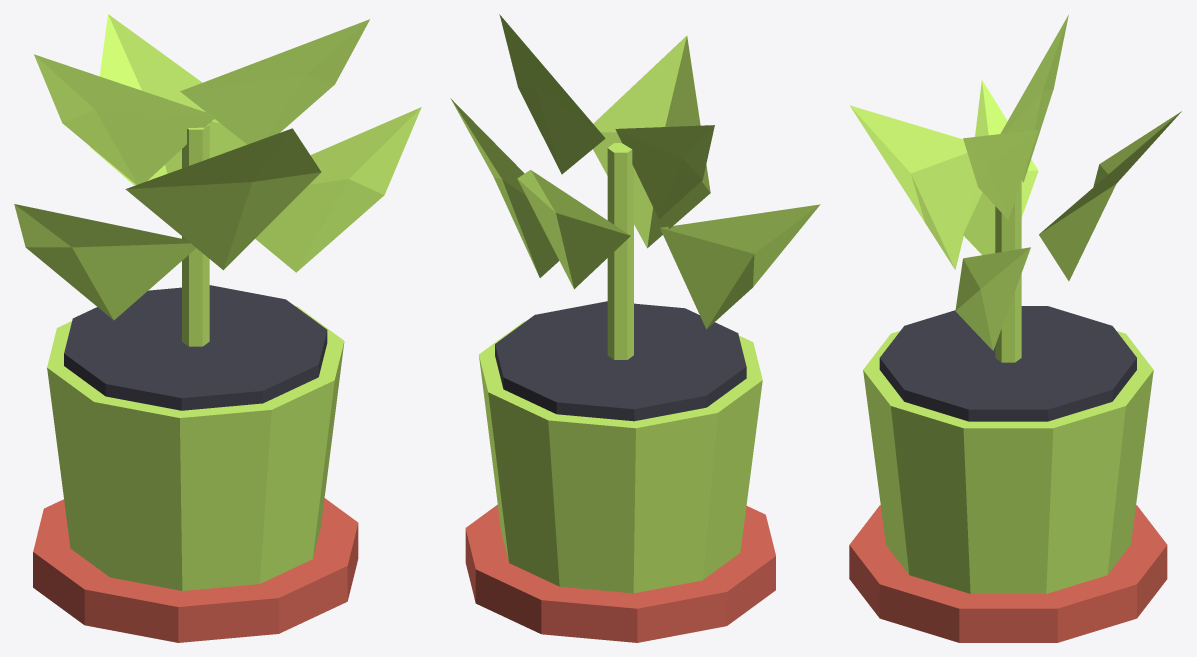
File: houseplant.obj
The picture shows the model from 3 angles, left to right: view 1: azimuth 30°, elevation 25°; view 2: azimuth 150°, elevation 25°; view 3: azimuth 270°, elevation 25°; orthographic projection. The views are drawn at different scales.
Visible parts, largest first — view 1: tapered-planter, soft-soil, cozy-pot-saucer, leaf-1, leaf-5, leaf-3, leaf-4, leaf-6, leaf-2, main-stem; view 2: tapered-planter, soft-soil, cozy-pot-saucer, leaf-3, leaf-1, leaf-2, leaf-5, leaf-6, main-stem, leaf-4; view 3: tapered-planter, soft-soil, cozy-pot-saucer, leaf-1, leaf-2, leaf-4, leaf-6, leaf-3, leaf-5, main-stem.
Boxes of the visible parts, box(x1,y1,x2,y2) form: tapered-planter: box(47, 306, 344, 590); soft-soil: box(64, 285, 327, 410); cozy-pot-saucer: box(33, 498, 358, 642); leaf-1: box(125, 128, 321, 270); leaf-5: box(34, 54, 216, 184); leaf-3: box(14, 204, 196, 320); leaf-4: box(255, 107, 421, 272); leaf-6: box(180, 19, 369, 144); leaf-2: box(90, 14, 246, 185); main-stem: box(182, 124, 209, 346); tapered-planter: box(479, 321, 762, 593); soft-soil: box(495, 301, 746, 421); cozy-pot-saucer: box(465, 504, 775, 642); leaf-3: box(660, 204, 820, 329); leaf-1: box(593, 36, 710, 248); leaf-2: box(517, 170, 630, 289); leaf-5: box(615, 125, 714, 218); leaf-6: box(499, 14, 605, 174); main-stem: box(607, 143, 633, 359); leaf-4: box(450, 98, 559, 277); tapered-planter: box(863, 331, 1153, 593); soft-soil: box(879, 306, 1136, 421); cozy-pot-saucer: box(849, 505, 1167, 642); leaf-1: box(850, 105, 976, 269); leaf-2: box(1039, 111, 1181, 281); leaf-4: box(955, 247, 1030, 350); leaf-6: box(963, 129, 1038, 219); leaf-3: box(963, 80, 1038, 255); leaf-5: box(1000, 15, 1068, 182); main-stem: box(995, 181, 1021, 362).
Size of the model in its own units: 1.16 by 1.49 by 0.88.
